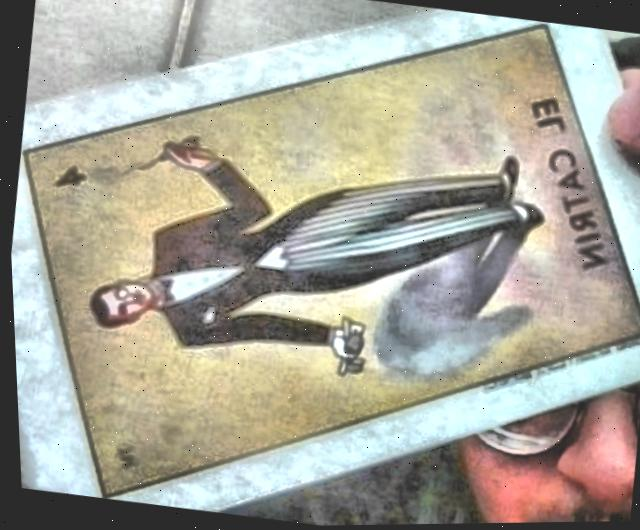El Catrin: (20, 28, 640, 496)
